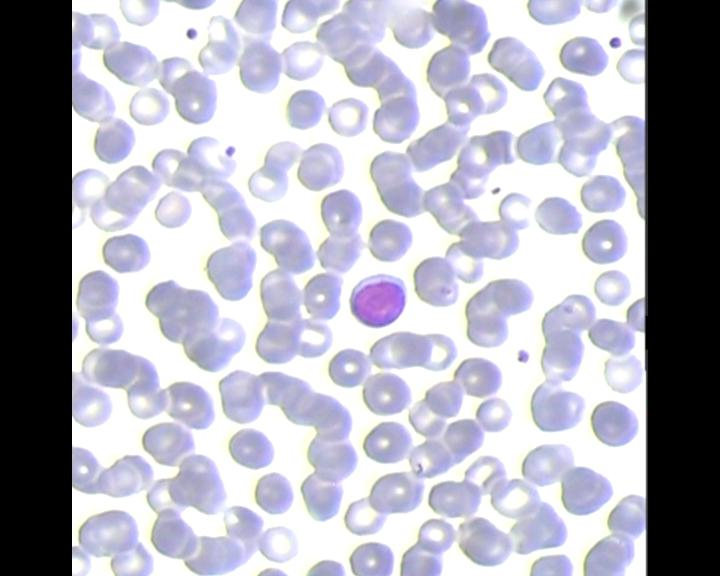lymp: (347, 272, 411, 331)
